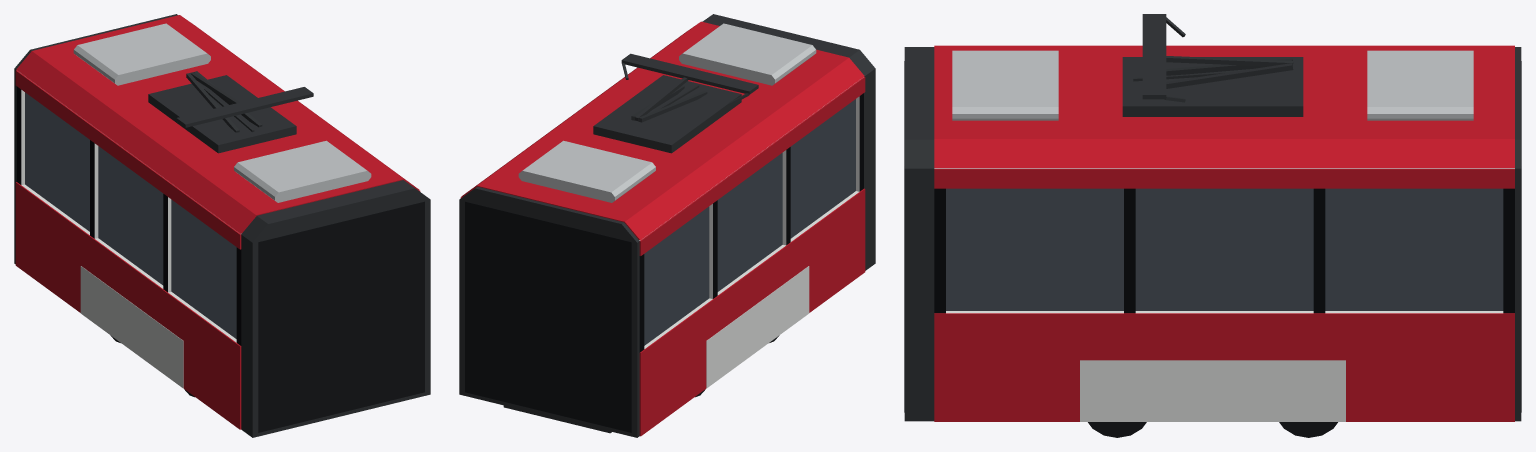
The picture shows the model from 3 angles, left to right: view 1: azimuth 30°, elevation 25°; view 2: azimuth 150°, elevation 25°; view 3: azimuth 270°, elevation 25°; orthographic projection. The views are drawn at different scales.
Parts seen in each view (by area): view 1: 52t-b; view 2: 52t-b; view 3: 52t-b.
Part boxes in pixels (x1,y1,x2,y2): 52t-b: [14, 14, 430, 437]; 52t-b: [459, 14, 875, 437]; 52t-b: [904, 14, 1521, 437].
Size of the model in its own units: 2.54 by 3.52 by 5.8.
